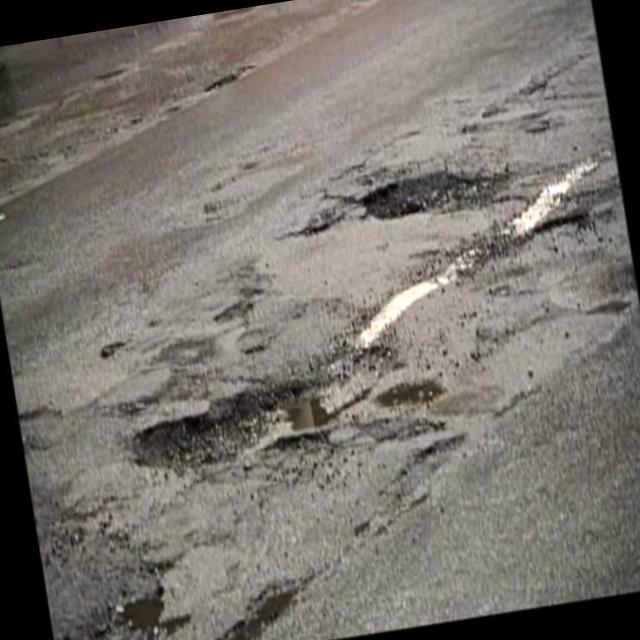Pothole: (117, 345, 395, 472), (293, 146, 523, 242), (174, 543, 327, 640), (361, 360, 461, 422), (520, 196, 614, 259), (105, 570, 189, 640)
